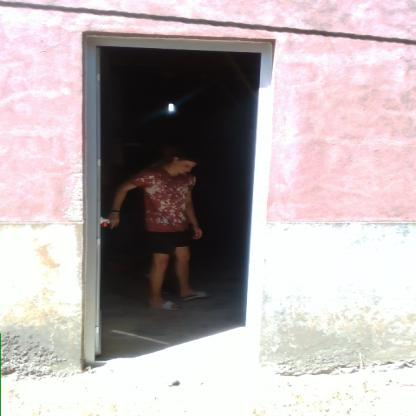open: (64, 25, 274, 366)
